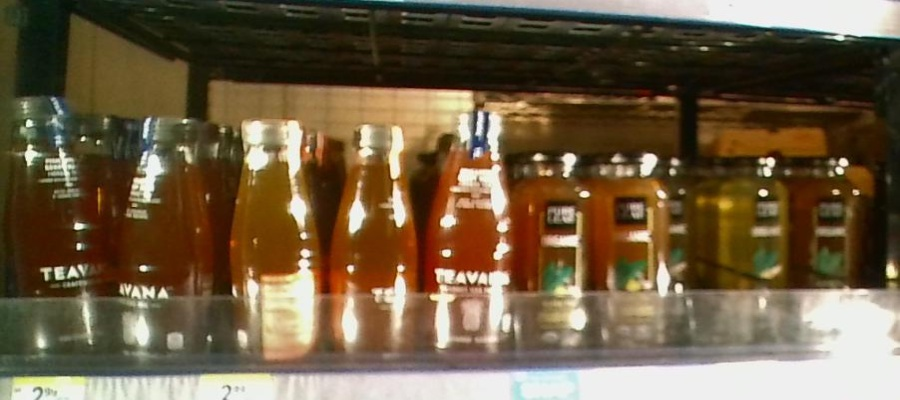bottle: (5, 85, 108, 367), (110, 98, 218, 366), (224, 112, 328, 369), (424, 93, 514, 365), (331, 116, 421, 367), (597, 142, 673, 352), (518, 146, 593, 353), (716, 155, 796, 345), (799, 153, 862, 350)
